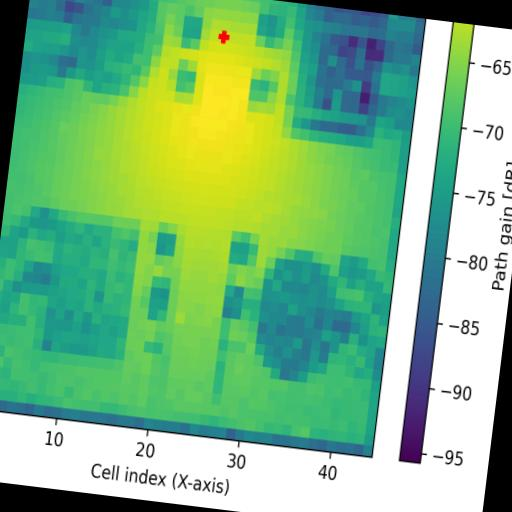Concrete: (282, 4, 390, 148)
Glass: (72, 0, 169, 110)
Metal: (253, 246, 358, 387)
Wood: (42, 209, 142, 360)
